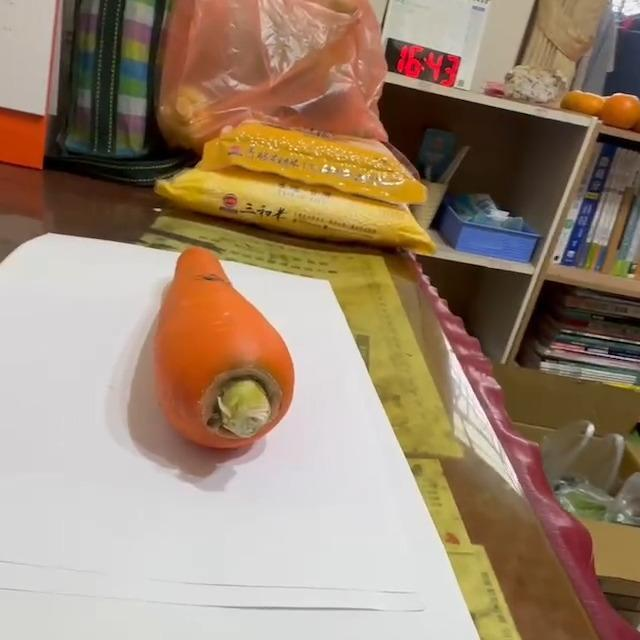carrot: (149, 247, 298, 452)
